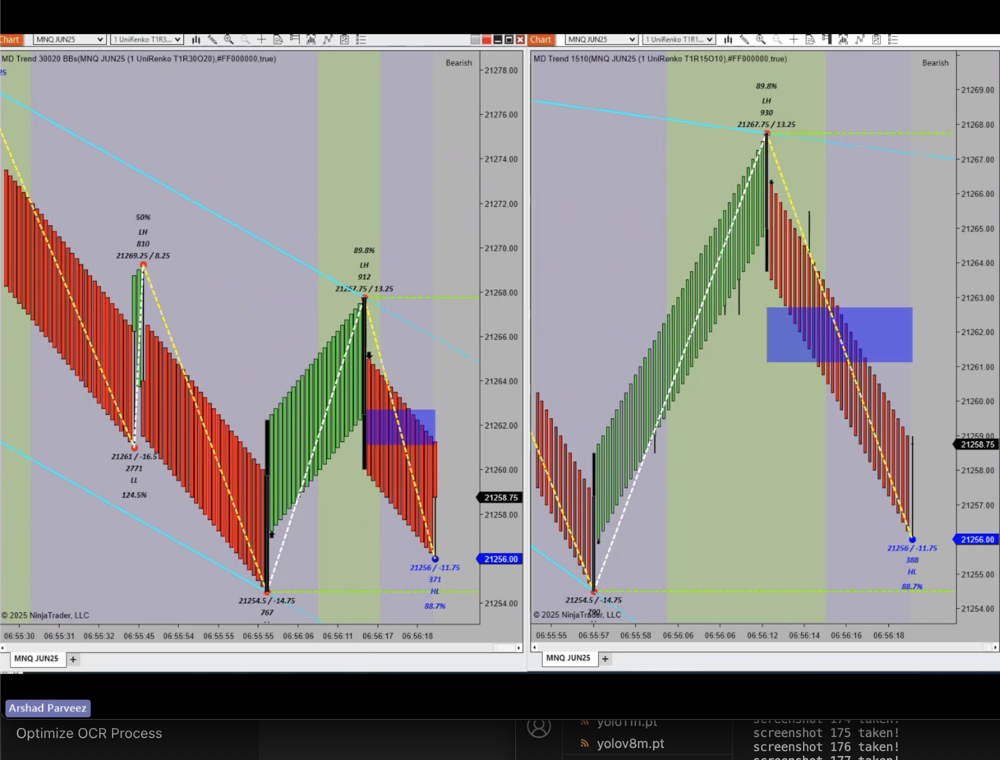HL: (899, 562, 934, 585), (423, 583, 444, 598)
LH: (133, 224, 159, 242), (756, 93, 782, 110), (356, 258, 376, 276)
LL: (124, 469, 143, 487)
